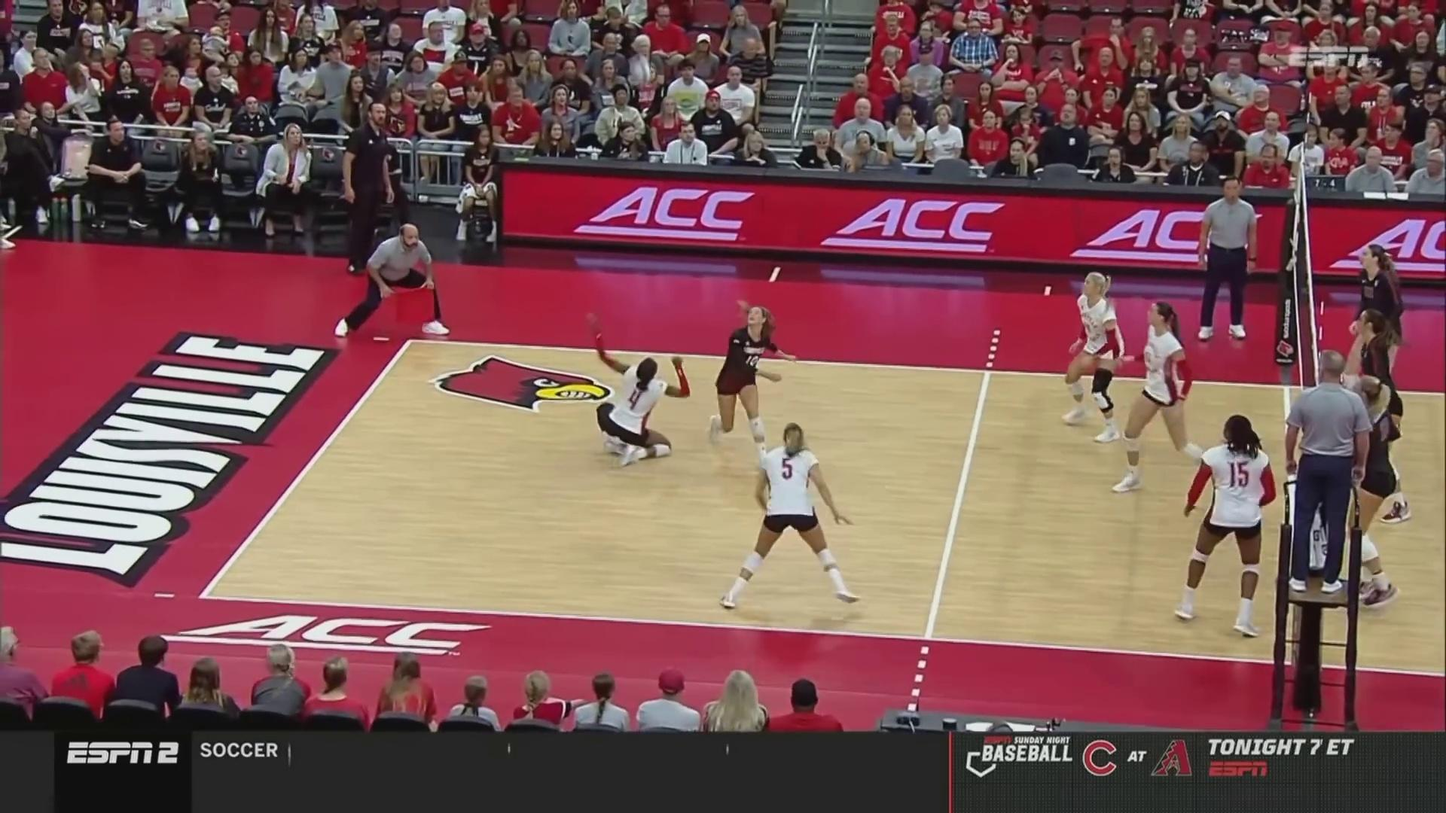player: (726, 426, 861, 615), (1172, 417, 1277, 637), (1116, 305, 1215, 496), (586, 319, 692, 458), (1339, 371, 1399, 608), (704, 307, 791, 463), (1352, 309, 1412, 523), (1344, 242, 1407, 440), (1066, 270, 1123, 442)
refree: (1288, 349, 1368, 595), (336, 222, 450, 339), (1195, 175, 1260, 343)
